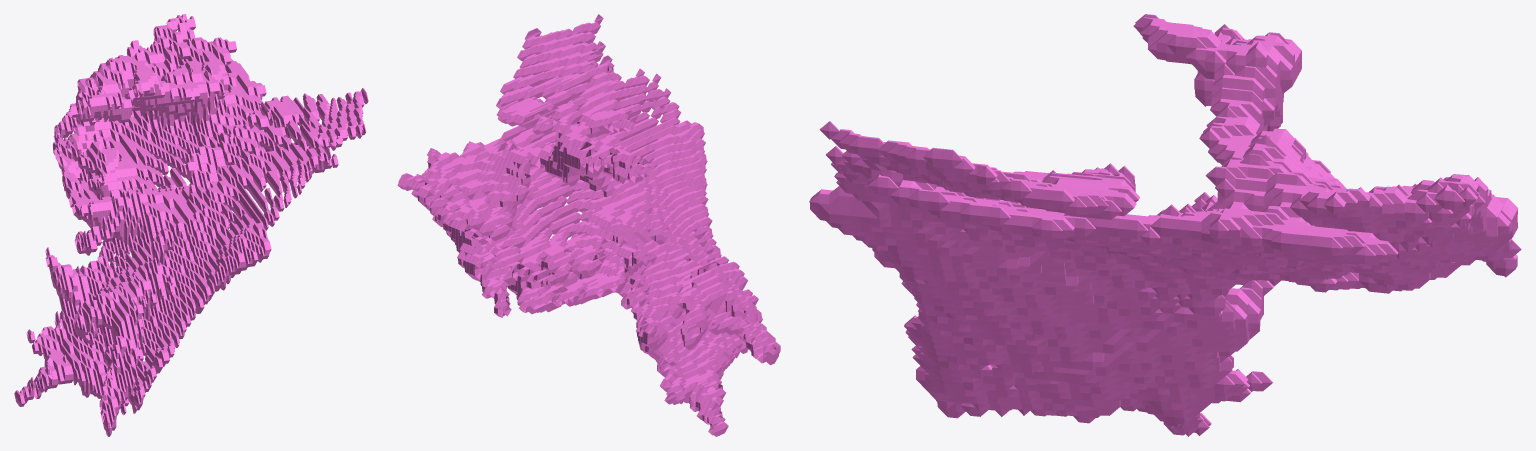
File: SVV_BWM-DL04.gltf
The picture shows the model from 3 angles, left to right: view 1: azimuth 30°, elevation 25°; view 2: azimuth 150°, elevation 25°; view 3: azimuth 270°, elevation 25°; orthographic projection. The views are drawn at different scales.
Parts seen in each view (by area): view 1: BWM-DL04; view 2: BWM-DL04; view 3: BWM-DL04.
Boxes of the visible parts, x1=… form: BWM-DL04: x1=14, y1=14, x2=368, y2=436; BWM-DL04: x1=397, y1=14, x2=780, y2=436; BWM-DL04: x1=809, y1=14, x2=1521, y2=436.
Bounding box in the file's own units: 33430 × 34948 × 45021.
